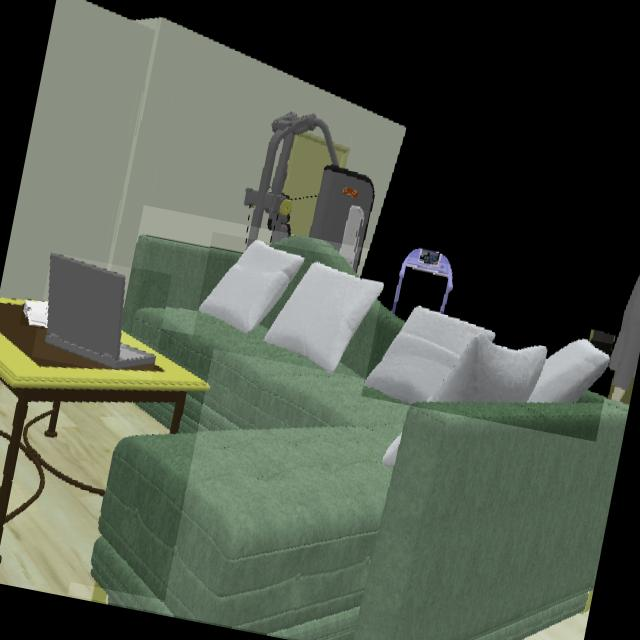book: (23, 300, 48, 329)
laptop: (44, 253, 156, 371)
person: (608, 269, 640, 401)
pillow: (198, 242, 383, 373), (364, 308, 611, 406)
sofa: (91, 236, 629, 640)
table: (0, 300, 205, 545)
